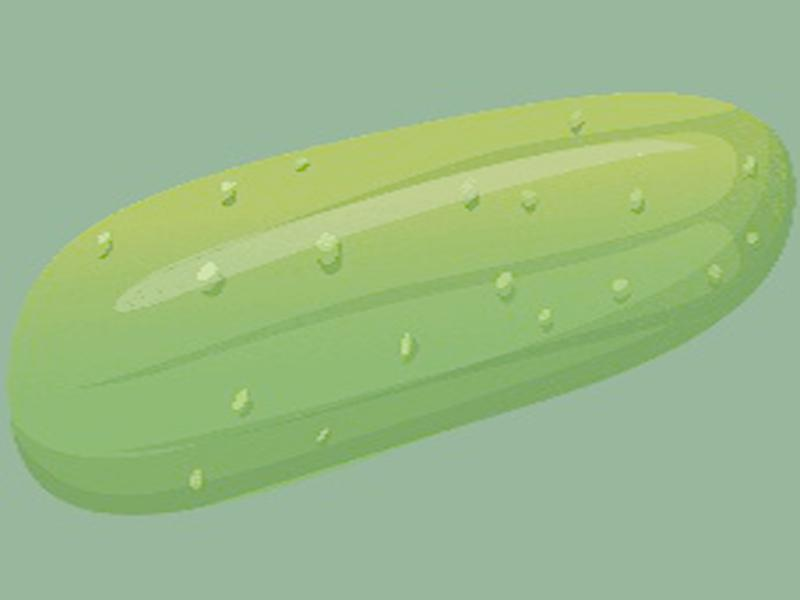Cucumber: (4, 93, 793, 515)
